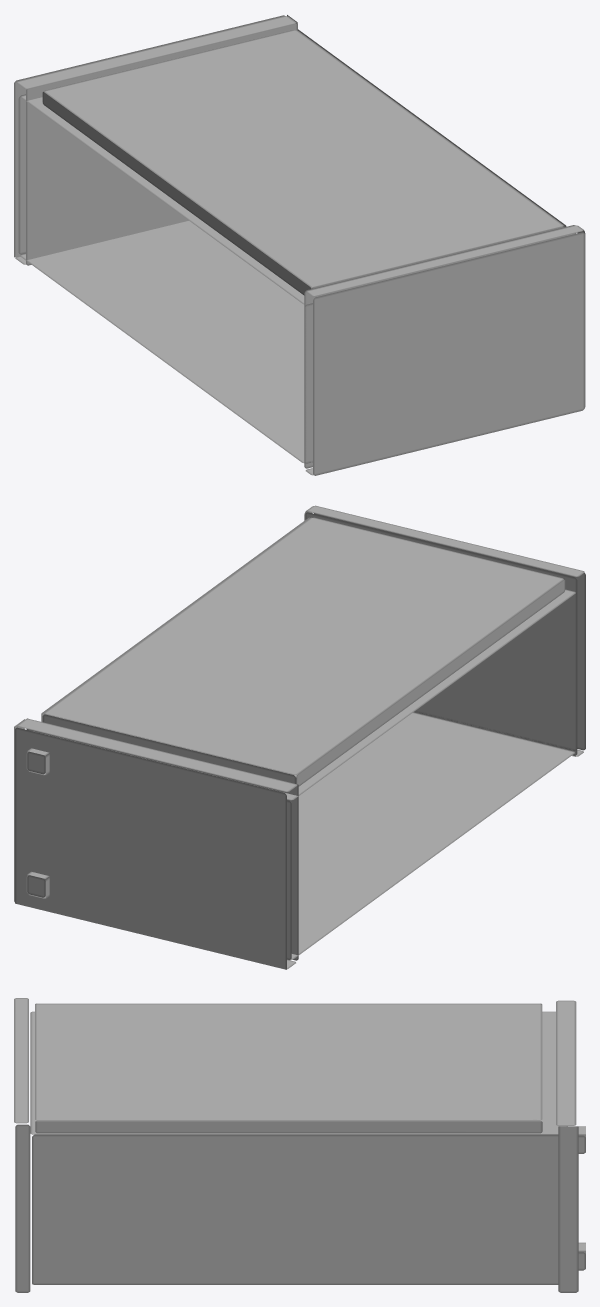
Rendered from pz_wardrobe_storage_01_dark_fancy_1_0.obj.
The picture shows the model from 3 angles, top to bottom: view 1: azimuth 30°, elevation 25°; view 2: azimuth 150°, elevation 25°; view 3: azimuth 270°, elevation 25°; orthographic projection. The views are drawn at different scales.
Size of the model in its own units: 0.995 by 0.625 by 1.91.
Materials: 1 (1 with a texture image).
